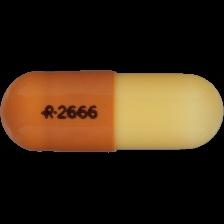66116-358: (0, 0, 224, 224)
